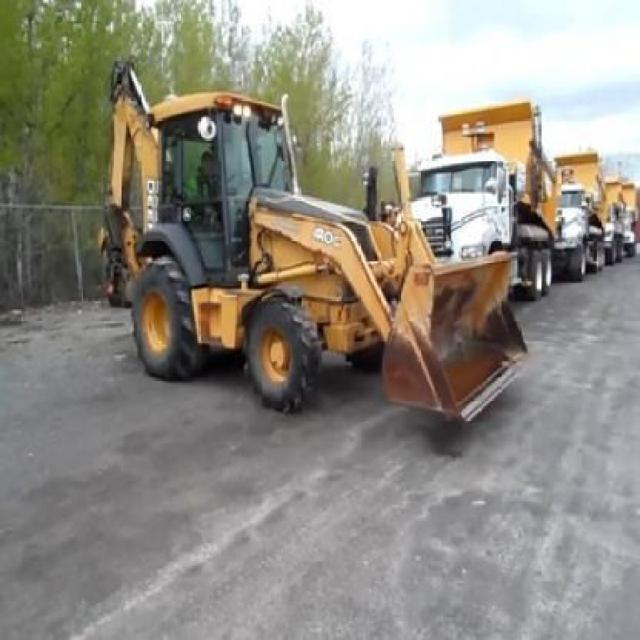Dump Truck: (393, 103, 553, 295), (547, 147, 602, 281), (601, 174, 634, 260)
